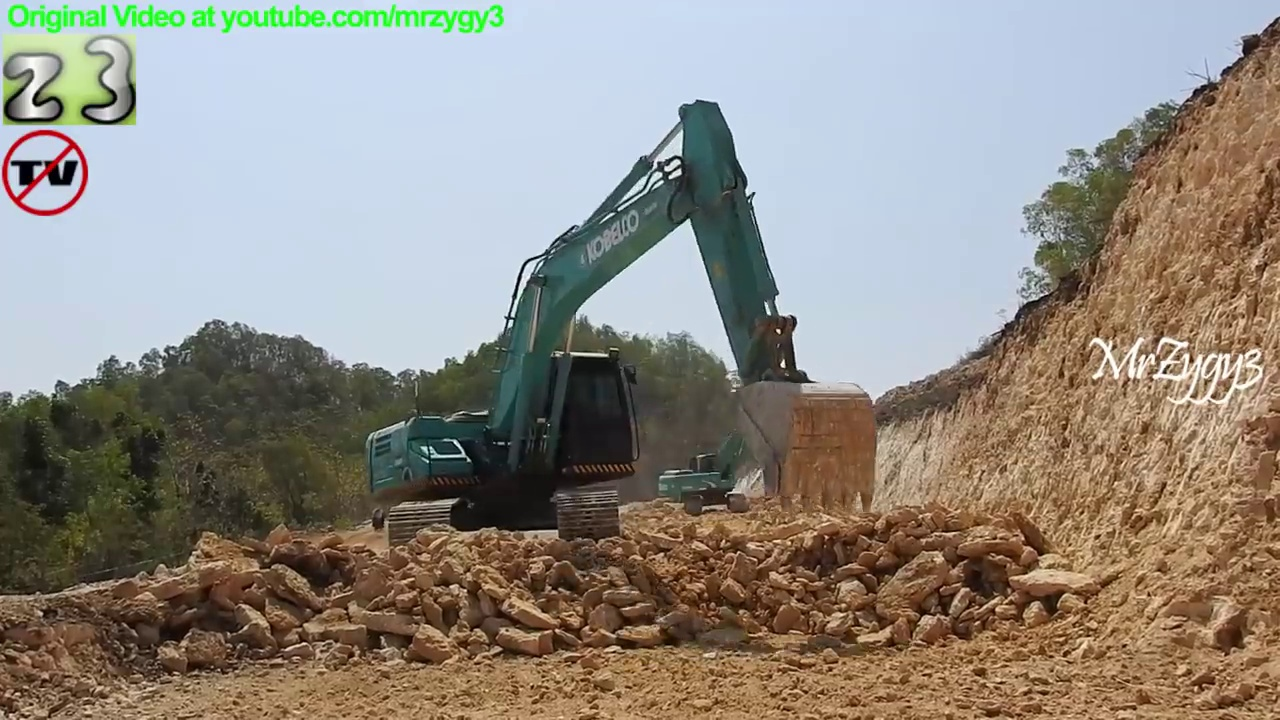excavator: (360, 95, 885, 561), (653, 409, 848, 519)
